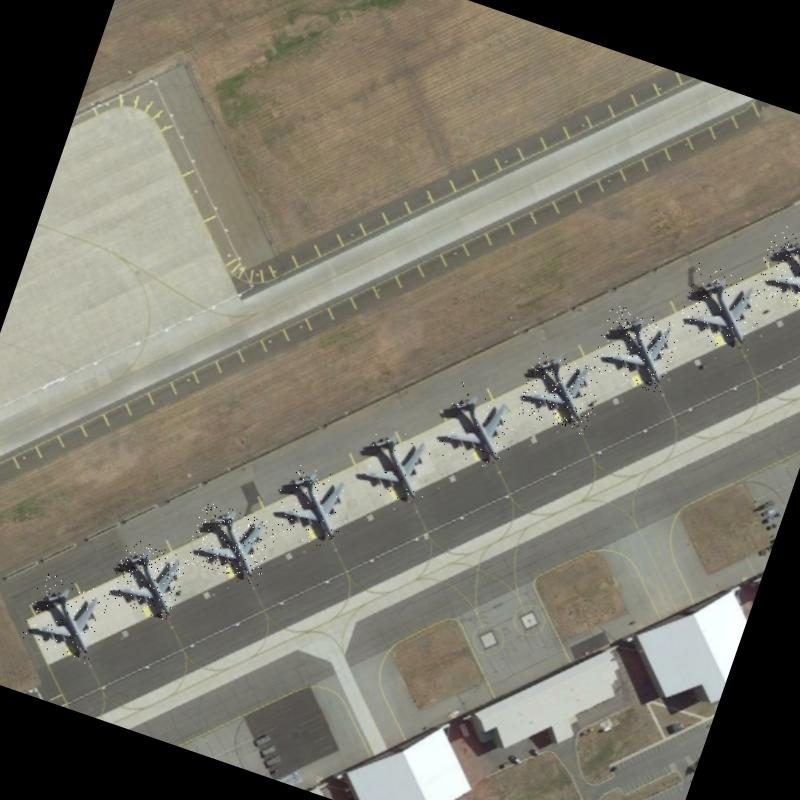A14: (674, 260, 772, 360), (432, 380, 524, 476), (589, 303, 683, 395), (183, 500, 280, 589), (19, 571, 111, 664), (266, 461, 358, 552), (350, 422, 440, 514), (516, 349, 606, 436), (106, 538, 190, 622), (752, 222, 800, 317)
